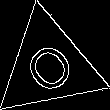O_SE: (17, 32, 81, 100)
